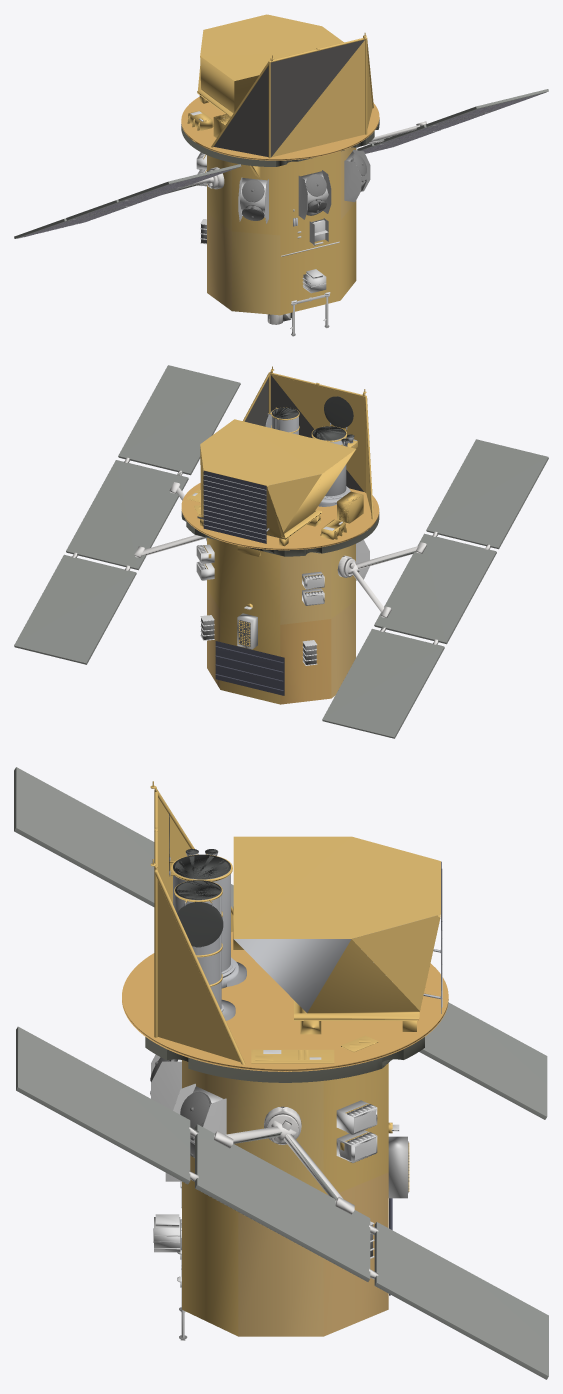
The model's file is swift.glb.
The picture shows the model from 3 angles, top to bottom: view 1: azimuth 30°, elevation 25°; view 2: azimuth 150°, elevation 25°; view 3: azimuth 270°, elevation 25°; orthographic projection. The views are drawn at different scales.
Visible parts, largest first — view 1: Fake; view 2: Fake; view 3: Fake.
Boxes of the visible parts, bbox=[...] form: Fake: bbox=[14, 14, 548, 336]; Fake: bbox=[14, 365, 548, 738]; Fake: bbox=[14, 767, 548, 1379].
Size of the model in its own units: 39.92 by 29.44 by 28.26.
1 material, 1 textured.
